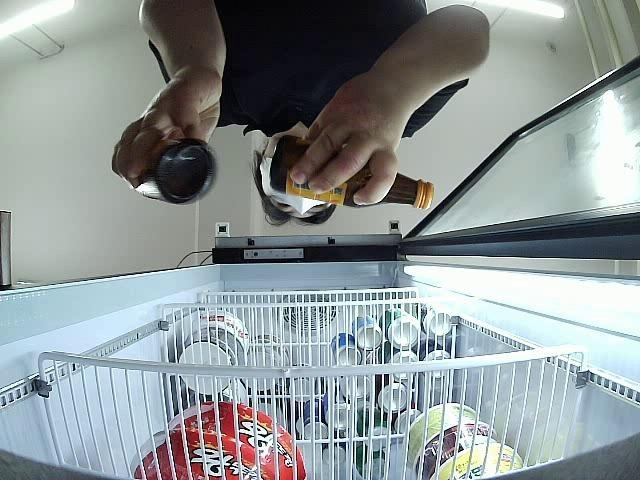17_vita500: (270, 134, 434, 210), (132, 138, 216, 204)
